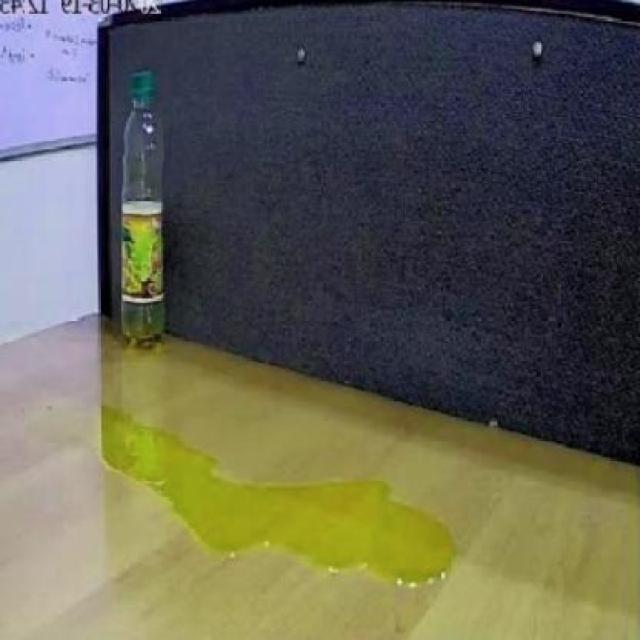spillage: (100, 409, 458, 589)
